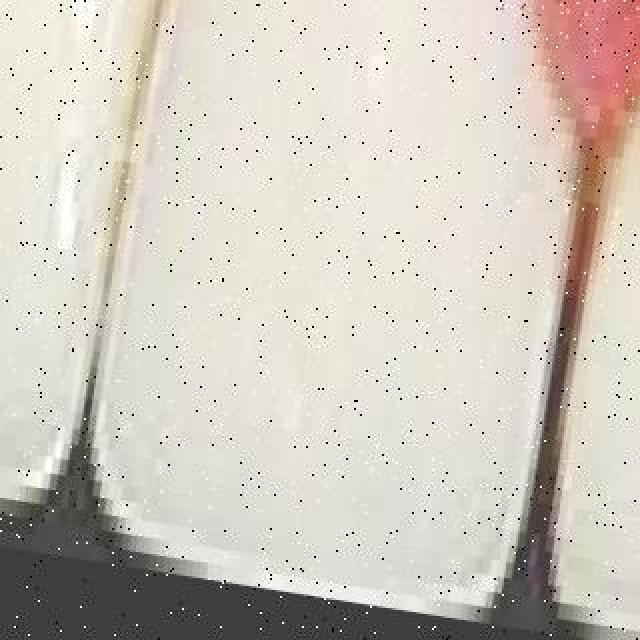spacing: (494, 208, 640, 618)
